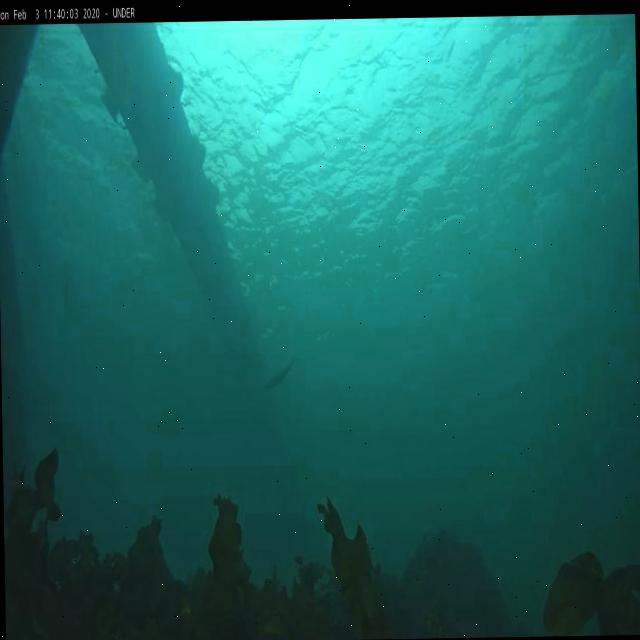fish: (264, 361, 294, 390)
